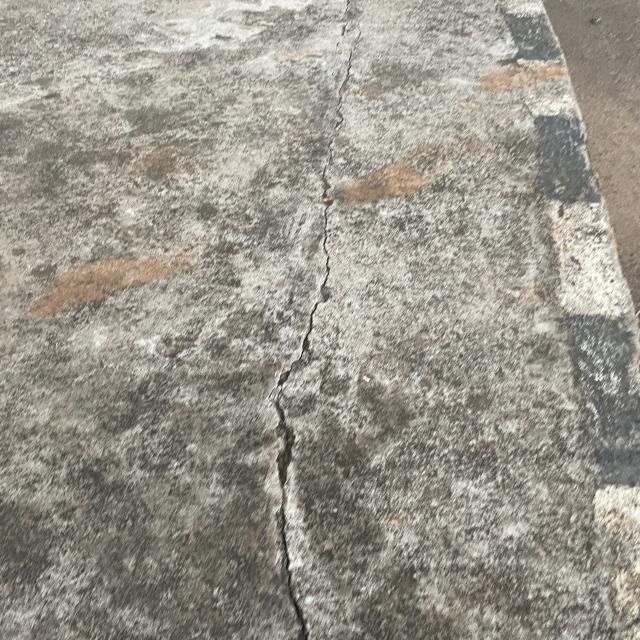D44: (242, 54, 360, 640)
